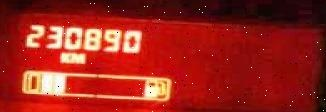0: (121, 27, 140, 52), (63, 24, 82, 49)
2: (23, 23, 43, 49)
3: (45, 23, 61, 49)
8: (83, 26, 102, 50)
9: (101, 26, 120, 51)
X: (68, 50, 85, 64), (58, 50, 68, 64)
